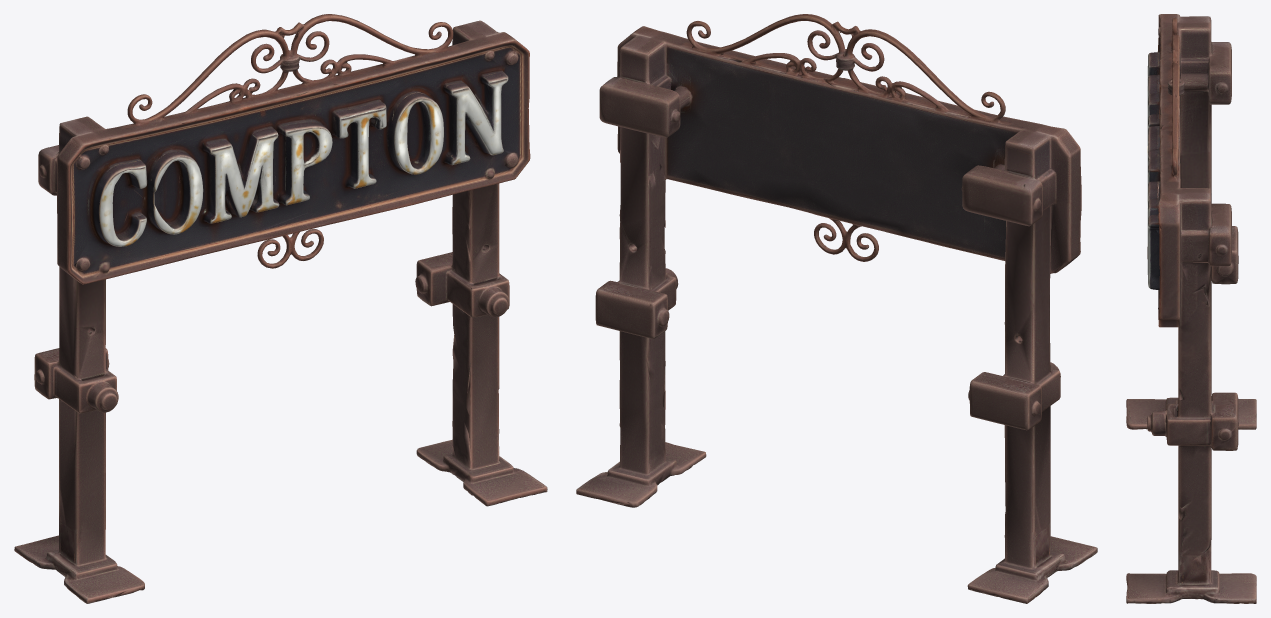
Rendered from city_sign.glb.
The picture shows the model from 3 angles, left to right: view 1: azimuth 30°, elevation 25°; view 2: azimuth 150°, elevation 25°; view 3: azimuth 270°, elevation 25°; orthographic projection. The views are drawn at different scales.
Bounding box in the file's own units: 1.84 × 1.91 × 0.5009.
Materials: 1 (1 with a texture image).
